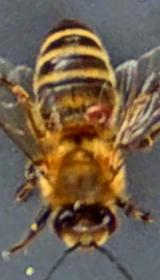varroa_mite: (75, 103, 108, 128)
